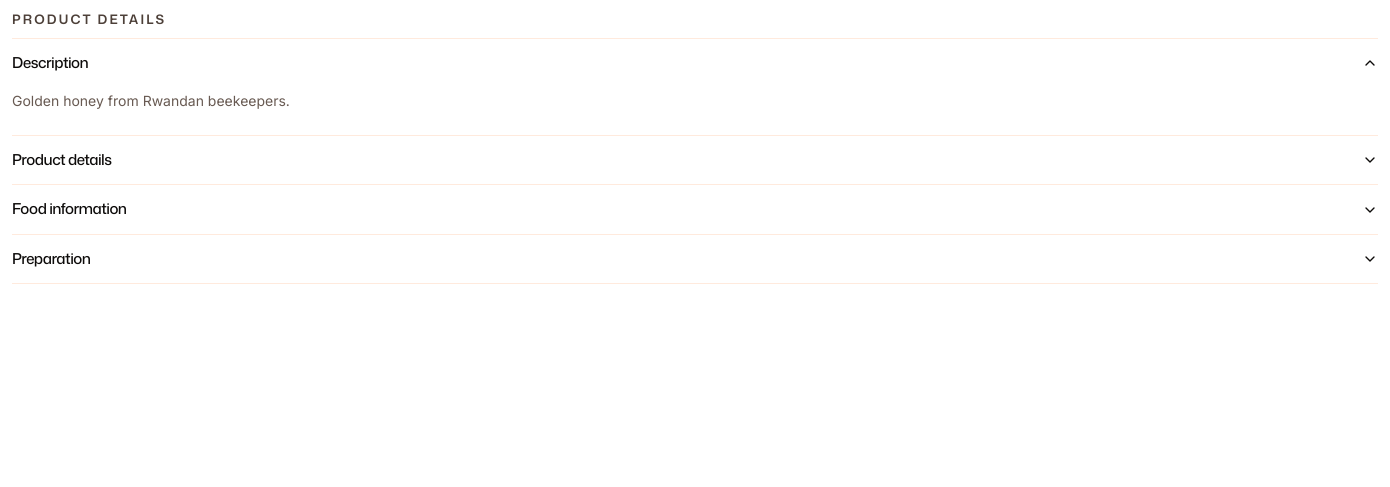
Test case: ProductFacts › falls back to store data when AI returns no usable facts
Click the button "Food information": (69, 209) [12,185,1378,234]
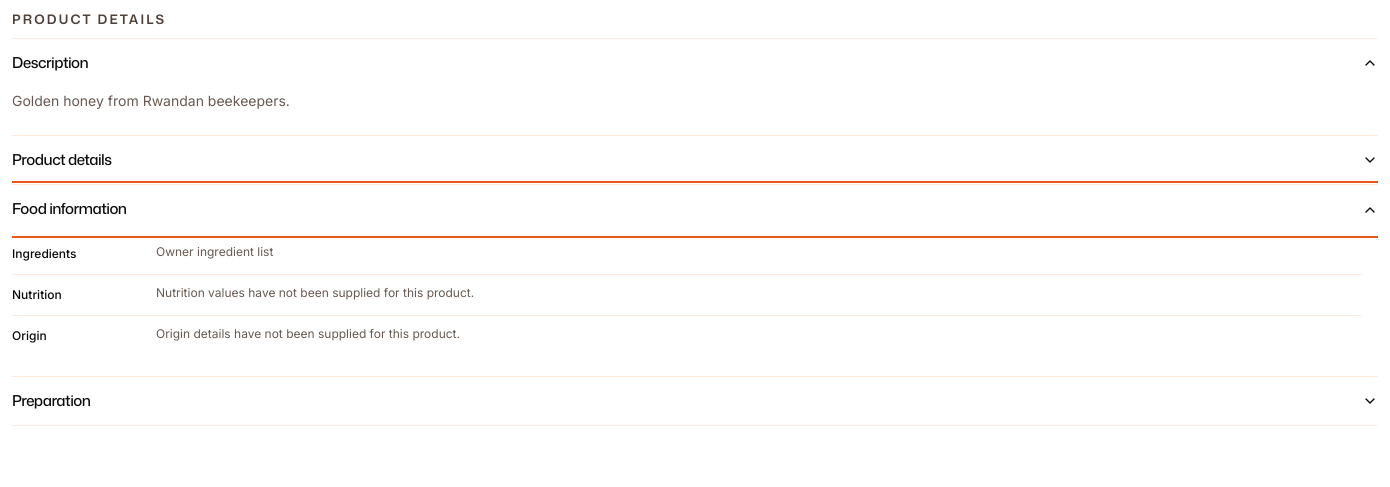
Expected: the text "Owner ingredient list" is shown, [156,244,273,259]
Click the button "Preparation": (51, 400) [12,377,1378,425]
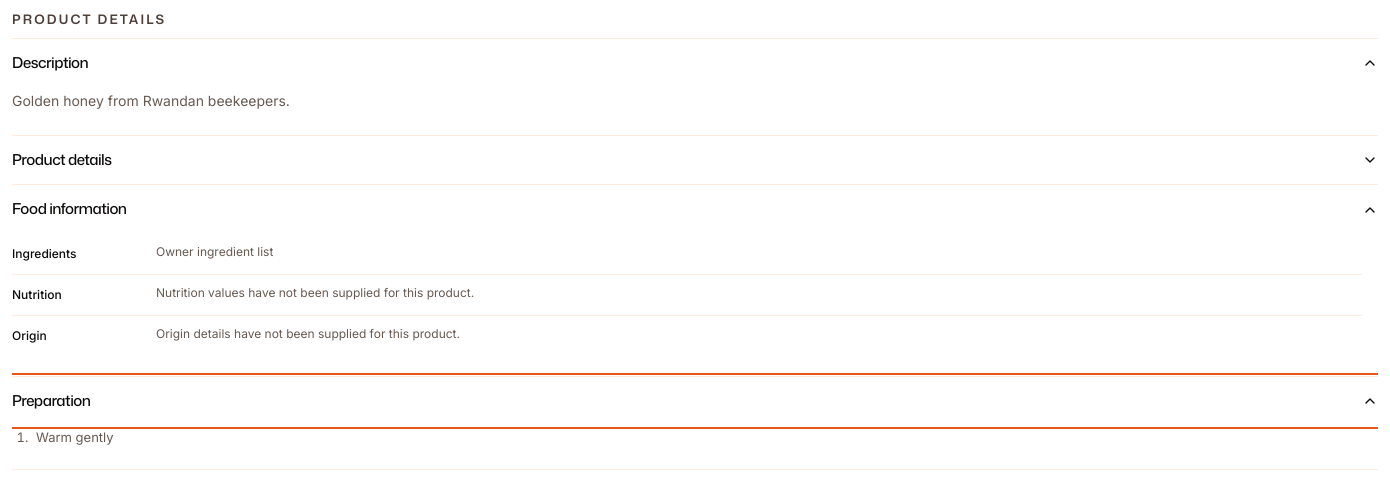
Expected: the list item "Warm gently" is shown, [36,429,114,445]
